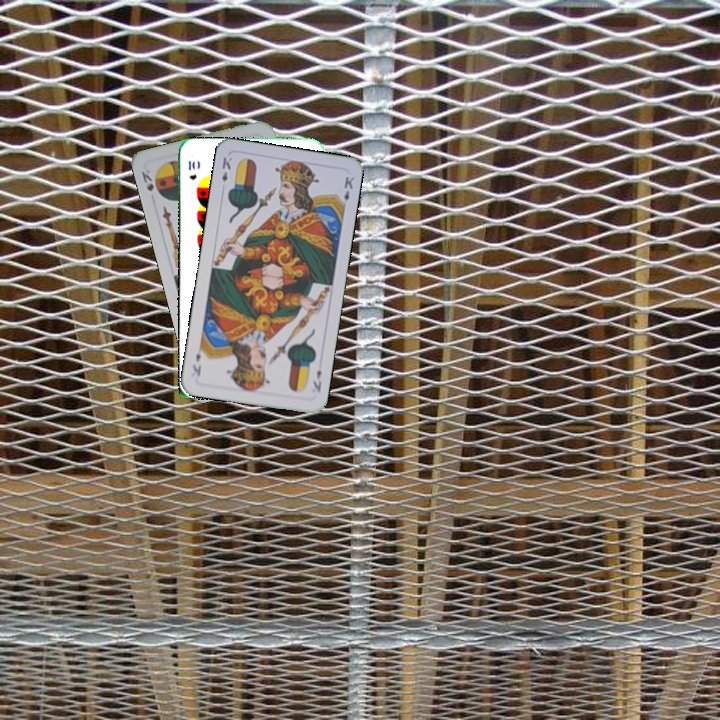EK: (217, 153, 235, 185), (309, 366, 324, 395)
S10: (185, 157, 199, 182)
SK: (137, 165, 156, 194)
